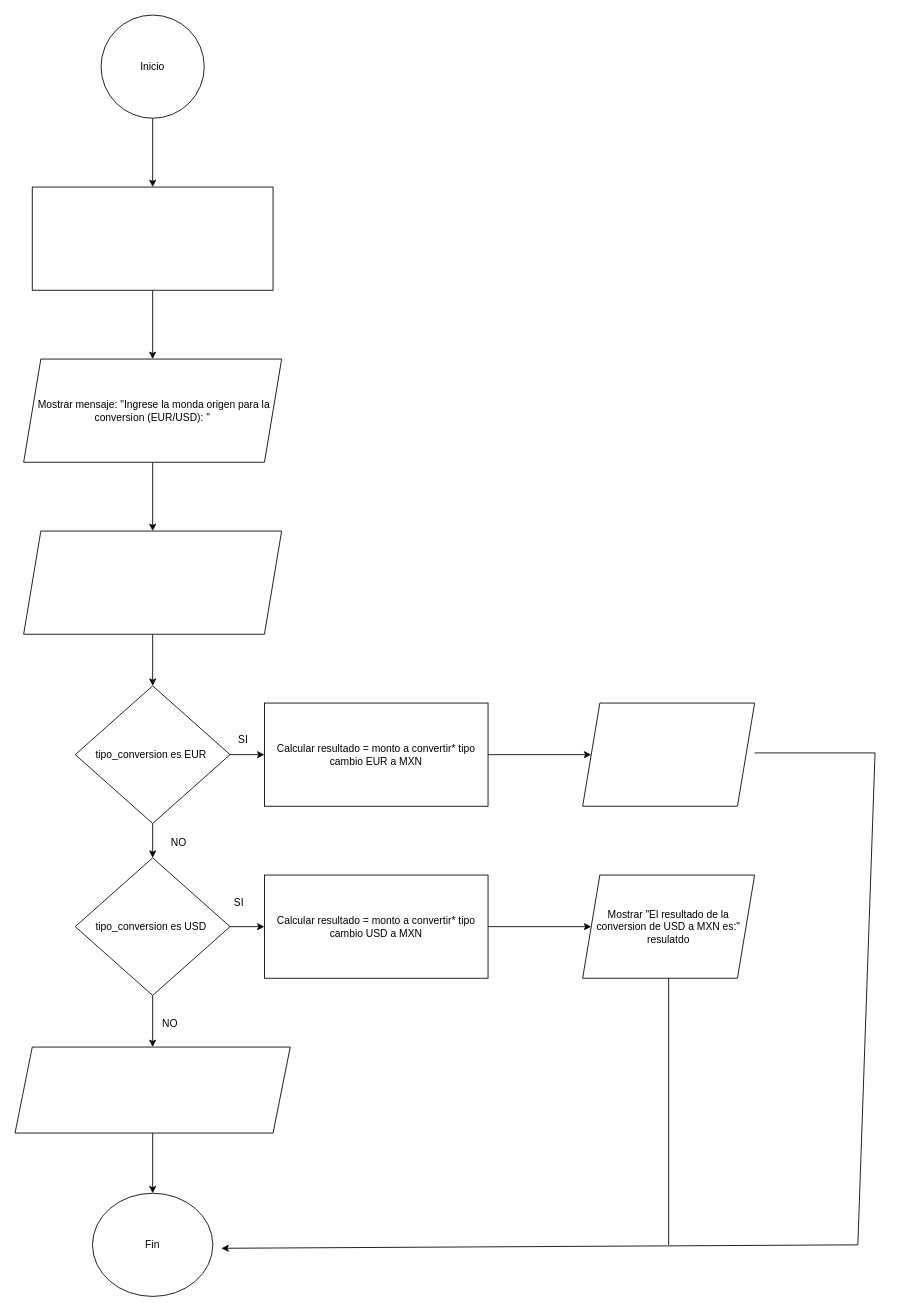
Some shapes in this 897 by 1312 pixel diagram are drawn without their labels. Each missing label, with the centre of its shape:
Definir tipo_cambio_eur_a_mxn = 23.7 Definir tipo_cambio_usd_a_mxn = 20.7: point 152,238
Mostrar "El resultado de la conversion de EUR a MXN es:" resulatdo: point 668,754
Mostrar mensaje: "ingrese el monto a comvertir: ": point 152,582
Mostrar: "No esta disponible este tipo de conversion actualmente": point 152,1089
